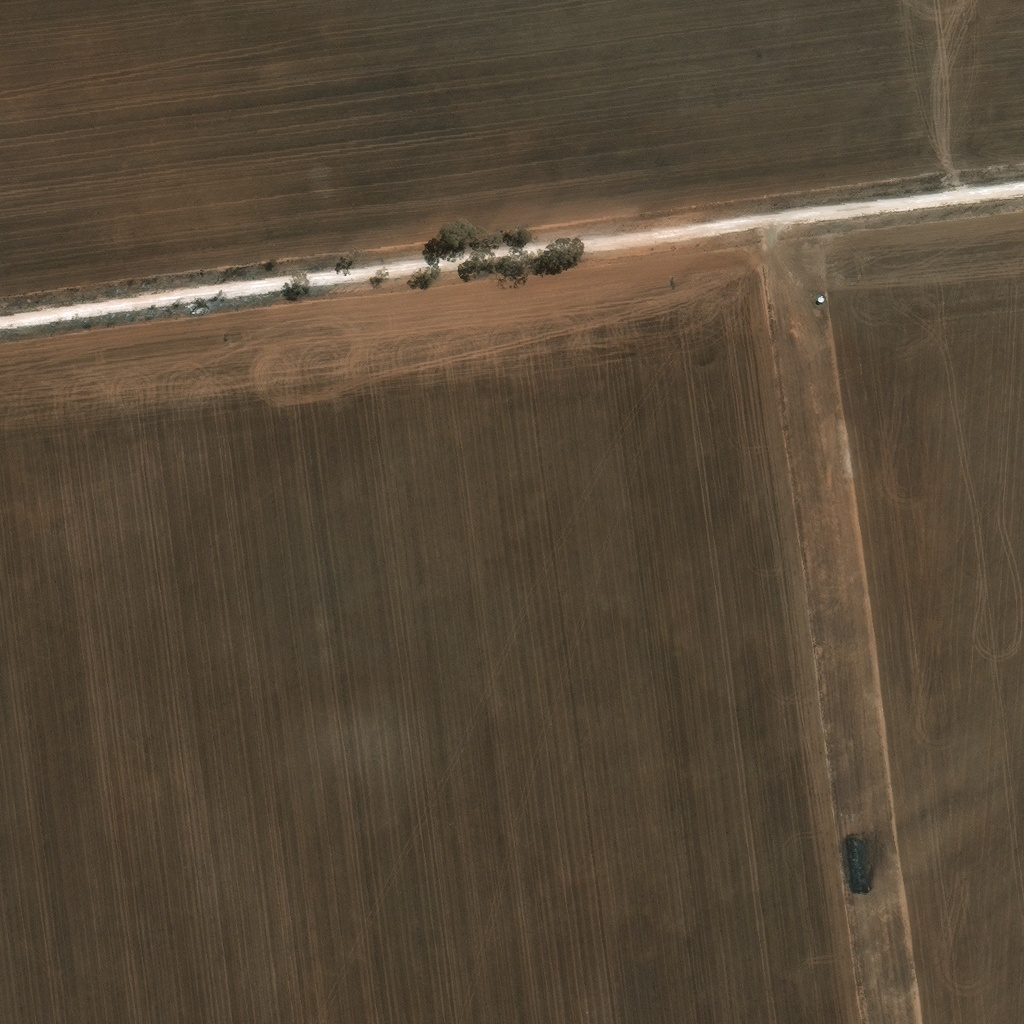4 un-classified: (817, 295, 825, 301)
